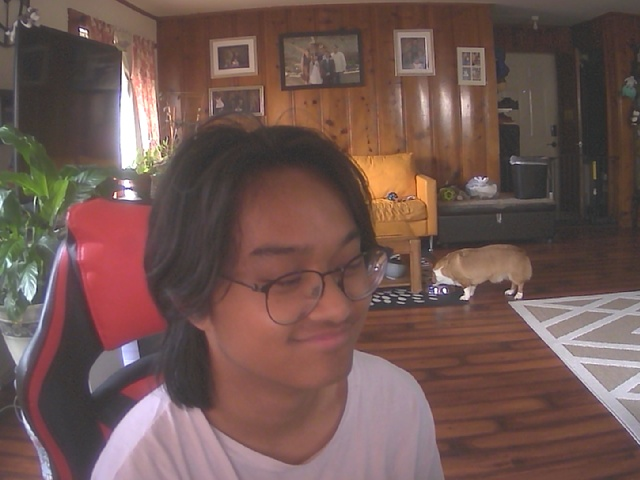happy: (155, 137, 396, 396)
